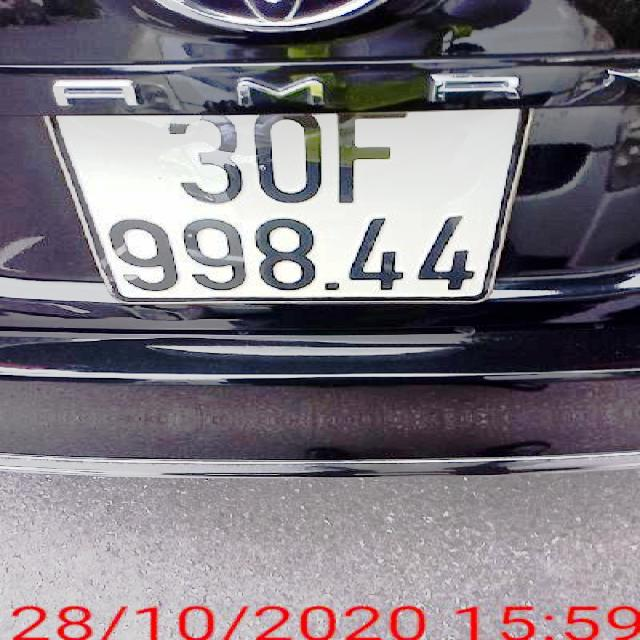license_plate: (52, 108, 527, 301)
